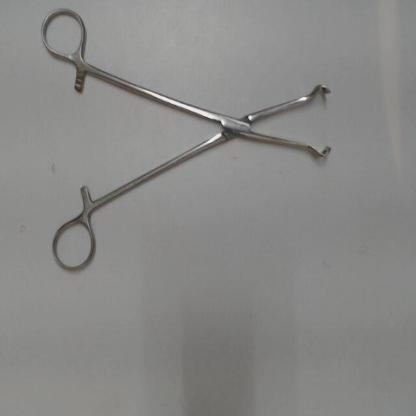8 Babcock Tissue Forceps: (35, 2, 343, 283)
